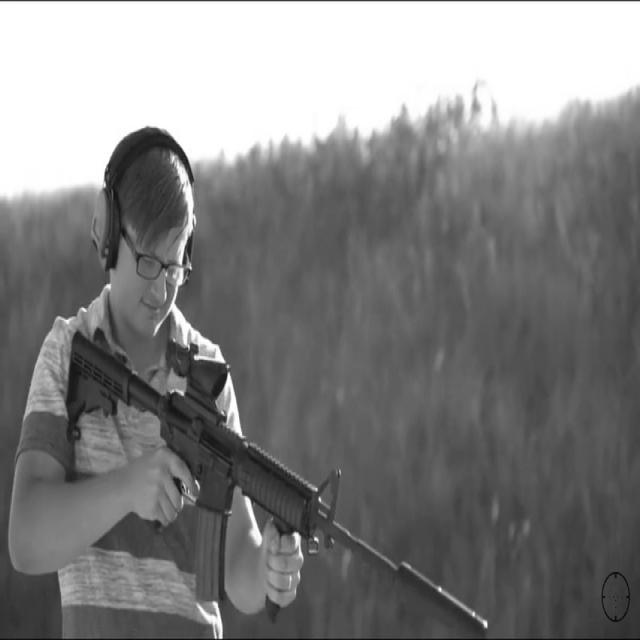Sniper: (66, 305, 519, 640)
